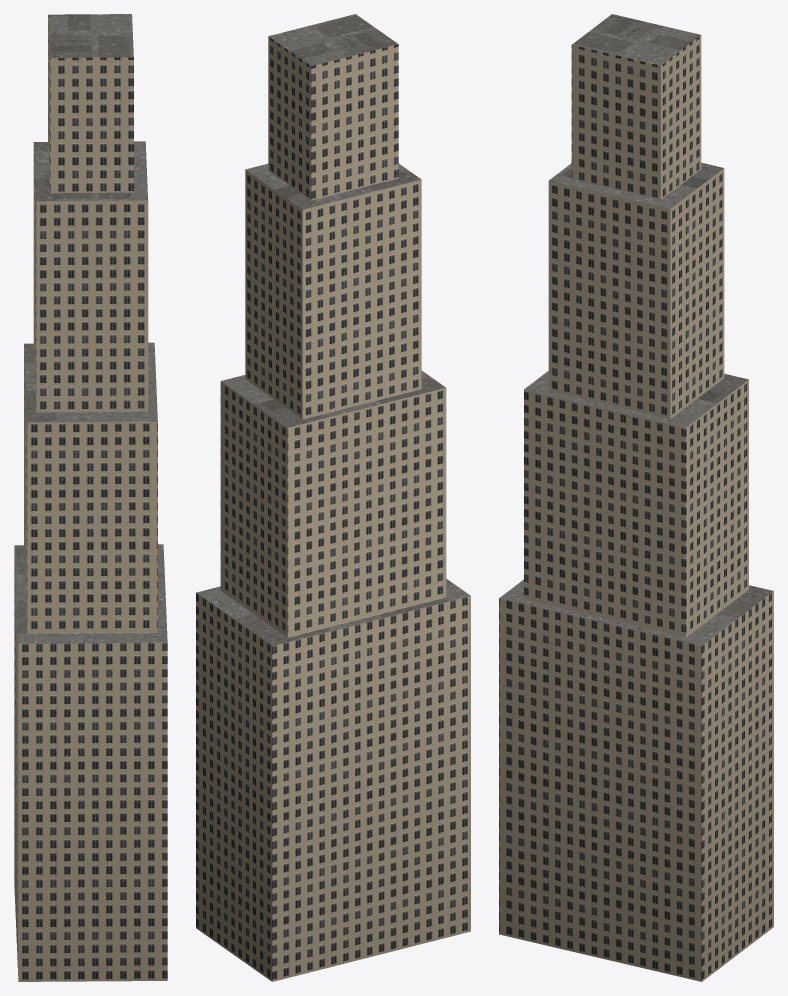
File: fifth500.glb
3 renders of one model, left to right at view 1: azimuth 30°, elevation 25°; view 2: azimuth 150°, elevation 25°; view 3: azimuth 270°, elevation 25°, orthographic.
Parts seen in each view (by area): view 1: fifth500; view 2: fifth500; view 3: fifth500.
Boxes of the visible parts, box(x1,y1,x2,y2) form: fifth500: box(14, 14, 167, 981); fifth500: box(196, 14, 470, 981); fifth500: box(499, 14, 773, 981).
Size of the model in its own units: 52.23 by 212 by 59.24.
Materials: 8 (8 with a texture image).
